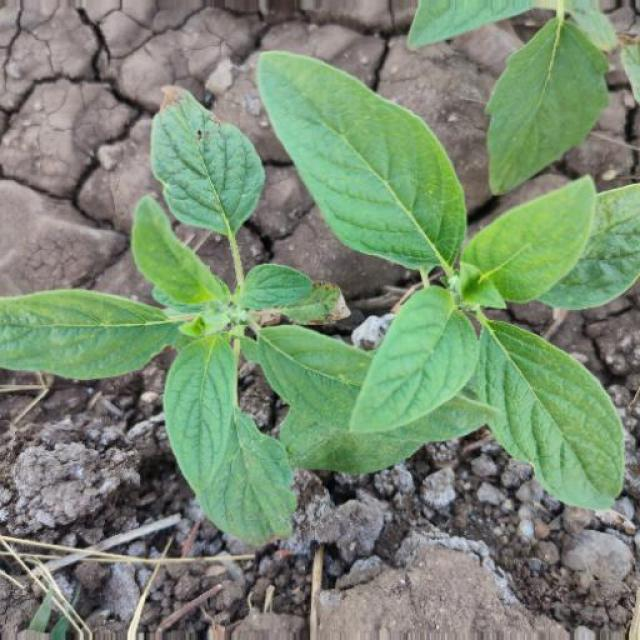crop: (1, 75, 491, 549), (250, 40, 640, 511)
